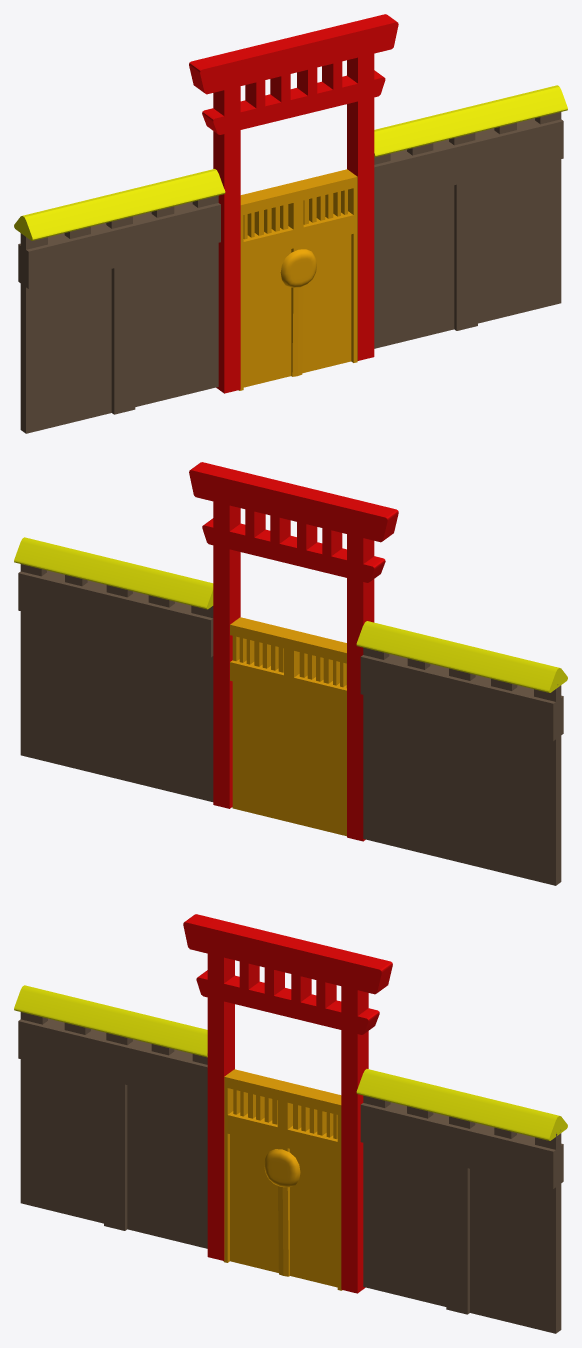
The model's file is AsianWall.fbx.
3 renders of one model, top to bottom at view 1: azimuth 30°, elevation 25°; view 2: azimuth 150°, elevation 25°; view 3: azimuth 330°, elevation 25°, orthographic.
Parts seen in each view (by area): view 1: wall, wall2, torii, gate, roof, roof2; view 2: wall, wall2, torii, gate, roof, roof2; view 3: wall2, wall, torii, gate, roof2, roof.
Part boxes in pixels (x1,y1,x2,y2): wall: [18, 195, 220, 433]; wall2: [374, 112, 563, 348]; torii: [189, 14, 398, 393]; gate: [238, 169, 357, 390]; roof: [14, 169, 225, 240]; roof2: [374, 85, 567, 157]; wall: [360, 647, 563, 885]; wall2: [18, 564, 213, 801]; torii: [189, 462, 398, 841]; gate: [230, 617, 346, 836]; roof: [356, 621, 567, 692]; roof2: [14, 537, 213, 609]; wall2: [360, 1095, 563, 1333]; wall: [18, 1012, 207, 1248]; torii: [183, 914, 392, 1293]; gate: [223, 1069, 342, 1290]; roof2: [356, 1069, 567, 1140]; roof: [14, 985, 207, 1057].
Bounding box in the file's own units: 10.2 × 6.03 × 0.674.
